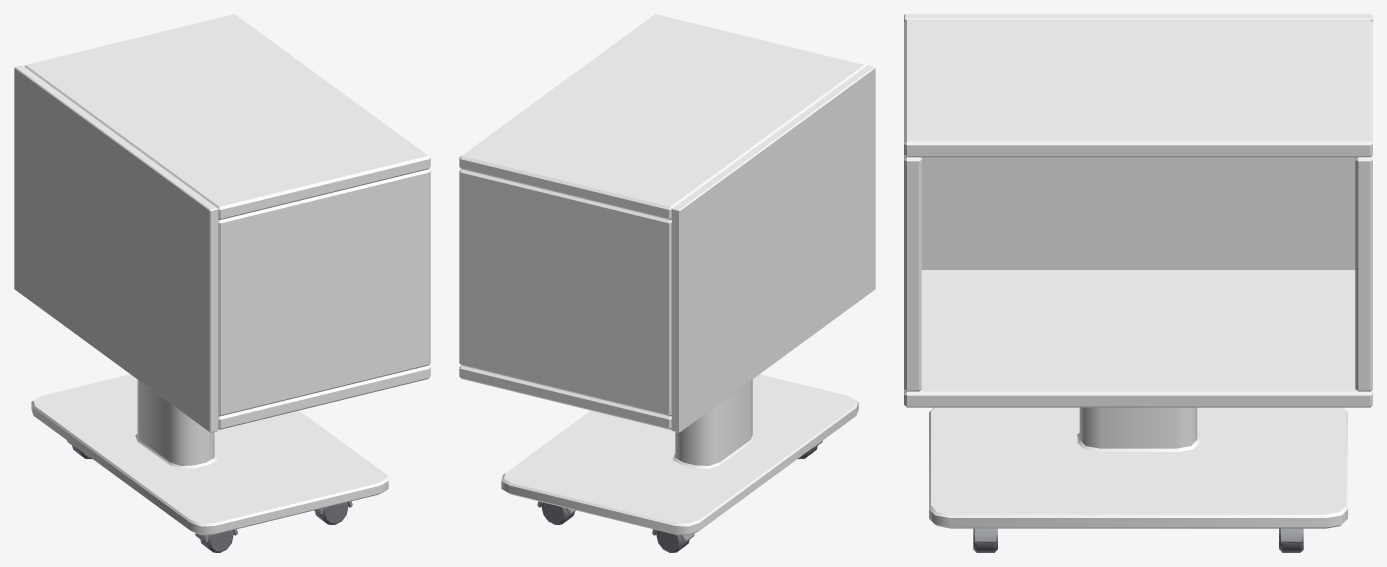
The model's file is Chest.fbx.
The picture shows the model from 3 angles, left to right: view 1: azimuth 30°, elevation 25°; view 2: azimuth 150°, elevation 25°; view 3: azimuth 270°, elevation 25°; orthographic projection. The views are drawn at different scales.
Parts seen in each view (by area): view 1: Chest; view 2: Chest; view 3: Chest.
Boxes of the visible parts, x1=… form: Chest: x1=14, y1=14, x2=430, y2=552; Chest: x1=459, y1=14, x2=875, y2=552; Chest: x1=904, y1=14, x2=1372, y2=552.
Size of the model in its own units: 0.52 by 0.84 by 0.7978.
